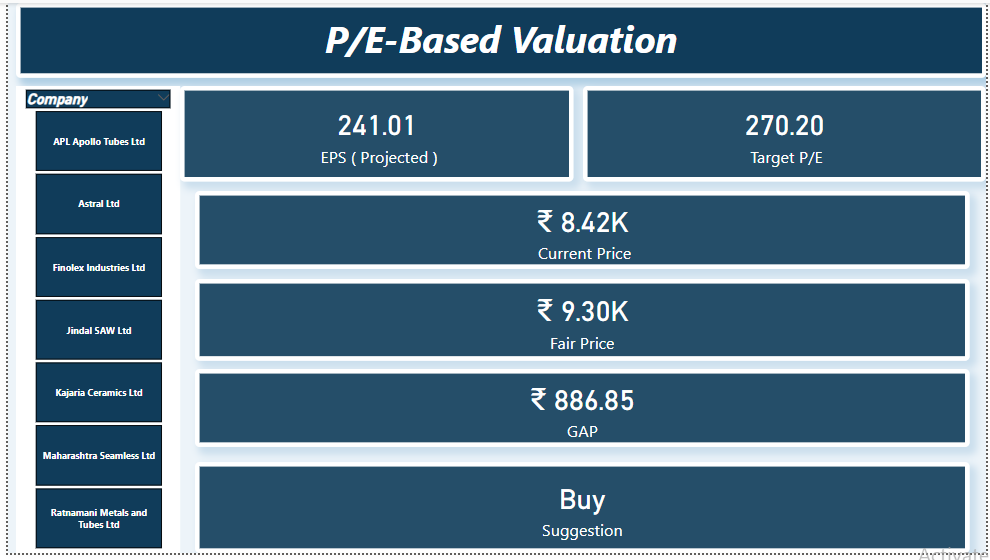

This screenshot's page, from the dashboard's own definition file:
{"tool":"powerbi","page":{"name":"PE","canvas":[1280,720],"ordinal":11},"visuals":[{"type":"textbox","box":[10.5,0,1269.8,98.2],"z":0},{"type":"slicer","fields":{"Values":["Sheet2.Company"]},"box":[10.4,108.4,215.3,611.8],"z":1},{"type":"card","fields":{"Values":["Sum(PE.EPS (TTM or Projected))"]},"box":[225.7,108.4,515.3,124.7],"z":2},{"type":"card","fields":{"Values":["Sum(PE.Target P/E)"]},"box":[752.9,108.4,527.1,124.7],"z":3},{"type":"card","fields":{"Values":["Min(PE.Suggestion)"]},"box":[245,601.4,1014.2,118.8],"z":4},{"type":"card","fields":{"Values":["Sum(PE.Current Price)"]},"box":[245,246.5,1014.2,102.5],"z":5},{"type":"card","fields":{"Values":["Sum(PE.Fair Price (EPS × P/E))"]},"box":[245,360.8,1014.2,106.9],"z":6},{"type":"card","fields":{"Values":["Sum(PE.Over/Under)"]},"box":[245,479.6,1014.2,102.5],"z":7}]}

Visuals, with their boxes in screenshot pixels (x1, y1, x2, y2), scaled from the page's 1280x720 canvas onto the 990x560 screenshot:
textbox: x1=8 y1=0 x2=989 y2=76
slicer - Sheet2.Company: x1=8 y1=84 x2=175 y2=559
card - Sum(PE.EPS (TTM or Projected)): x1=175 y1=84 x2=573 y2=181
card - Sum(PE.Target P/E): x1=582 y1=84 x2=989 y2=181
card - Min(PE.Suggestion): x1=189 y1=468 x2=974 y2=559
card - Sum(PE.Current Price): x1=189 y1=192 x2=974 y2=271
card - Sum(PE.Fair Price (EPS × P/E)): x1=189 y1=281 x2=974 y2=364
card - Sum(PE.Over/Under): x1=189 y1=373 x2=974 y2=453
